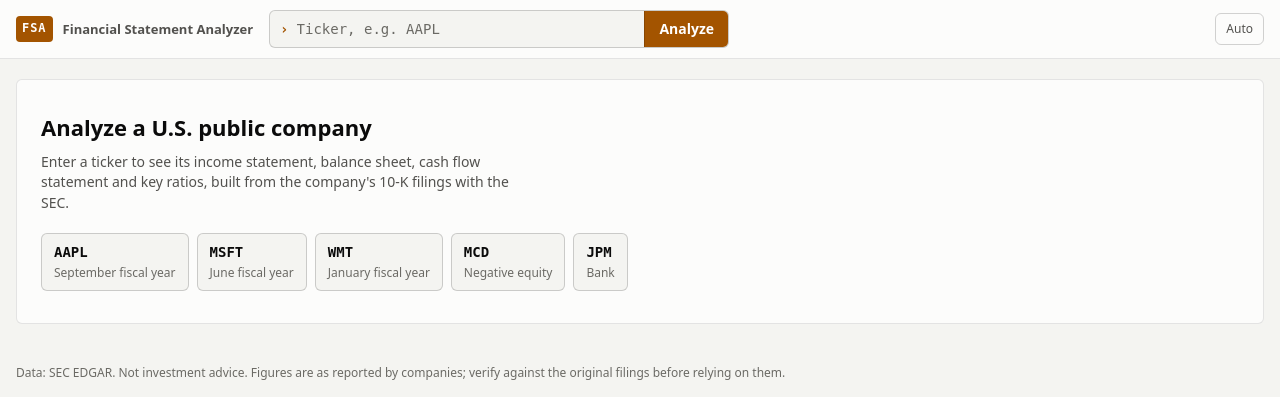
Test: App › explains an unknown ticker
Type "ZZZZ" into the field named "Company ticker". click: (466, 29)
box: [288, 13, 644, 45]
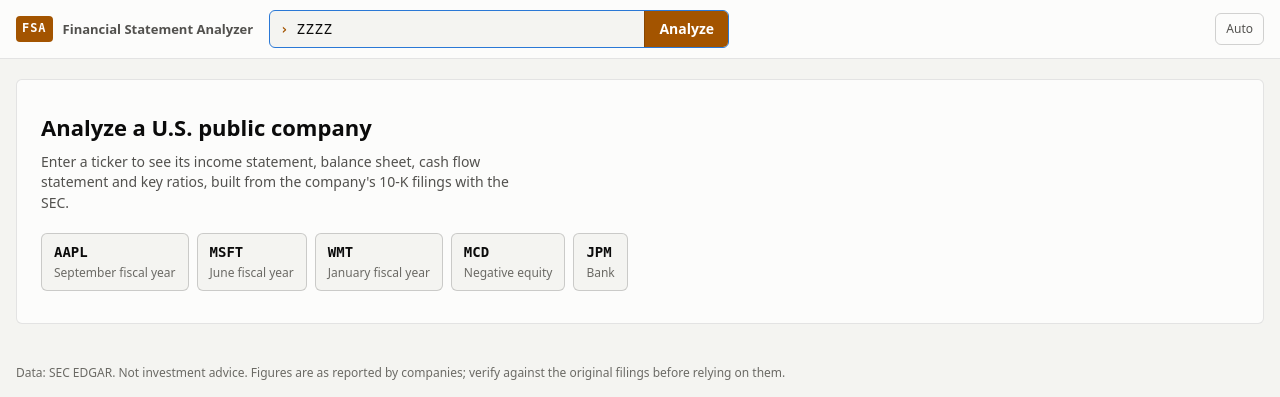
Click the button "Analyze". click: (686, 29)
box: [644, 11, 728, 47]
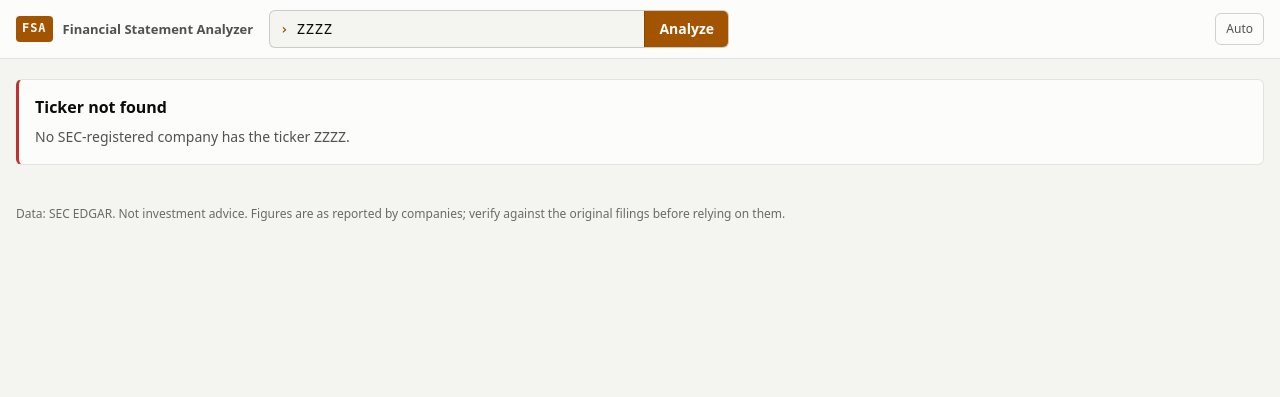
Expected: the heading "Ticker not found" is shown, [35, 96, 167, 120]
Expected: the text "No SEC-registered company has the ticker ZZZZ." is shown, [35, 128, 350, 148]
